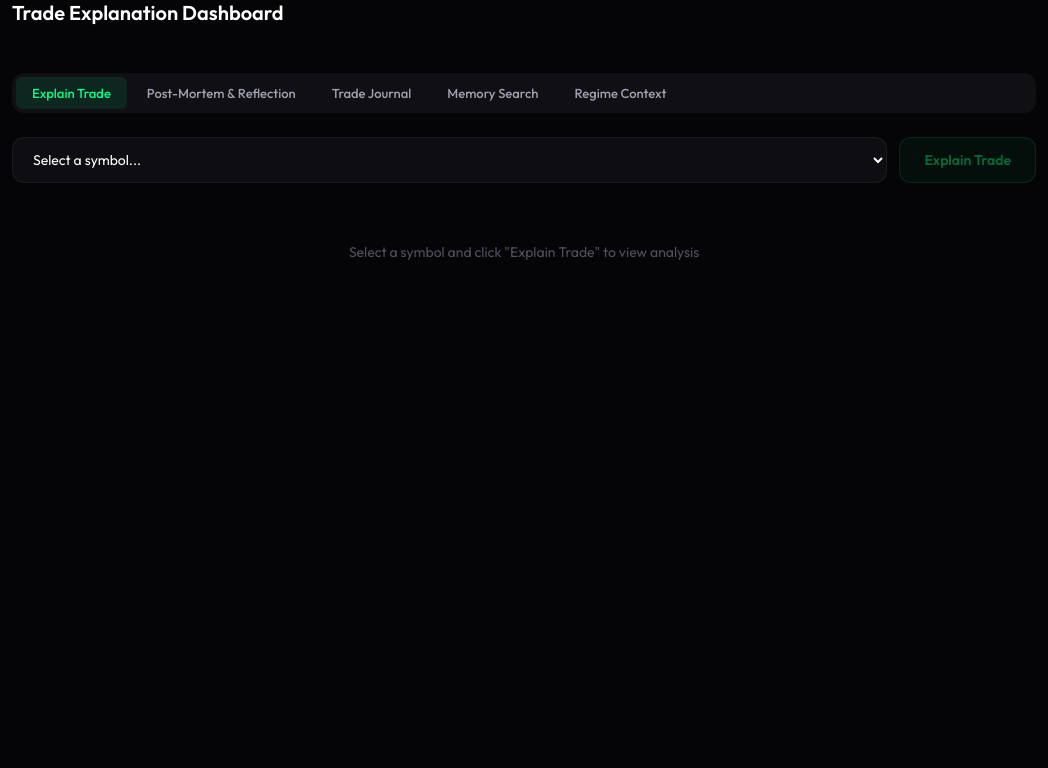
Test case: TradeIntelligence - Scenario 3: Post-Mortem & Reflection Flow › Displays recurring patterns in reflection
Click the button "Post-Mortem & Reflection".
click(221, 93)  # box x1=131 y1=77 x2=312 y2=109
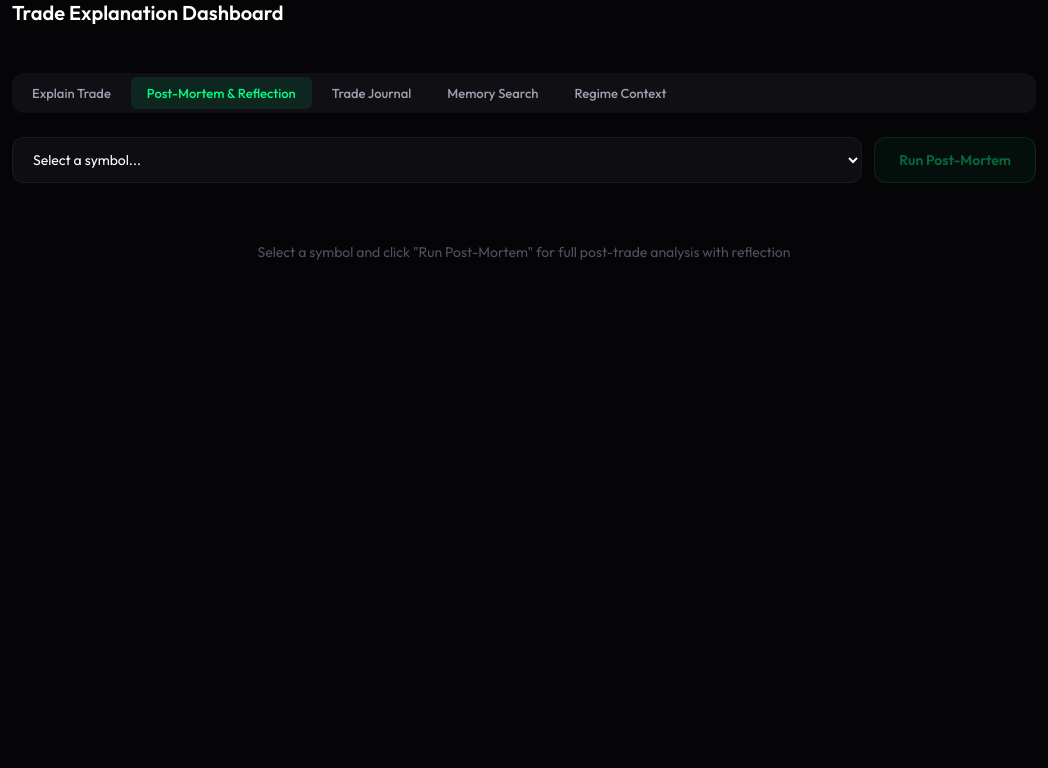
Select "RELIANCE" in the dropdown at point(437, 160), box x1=12 y1=137 x2=862 y2=183
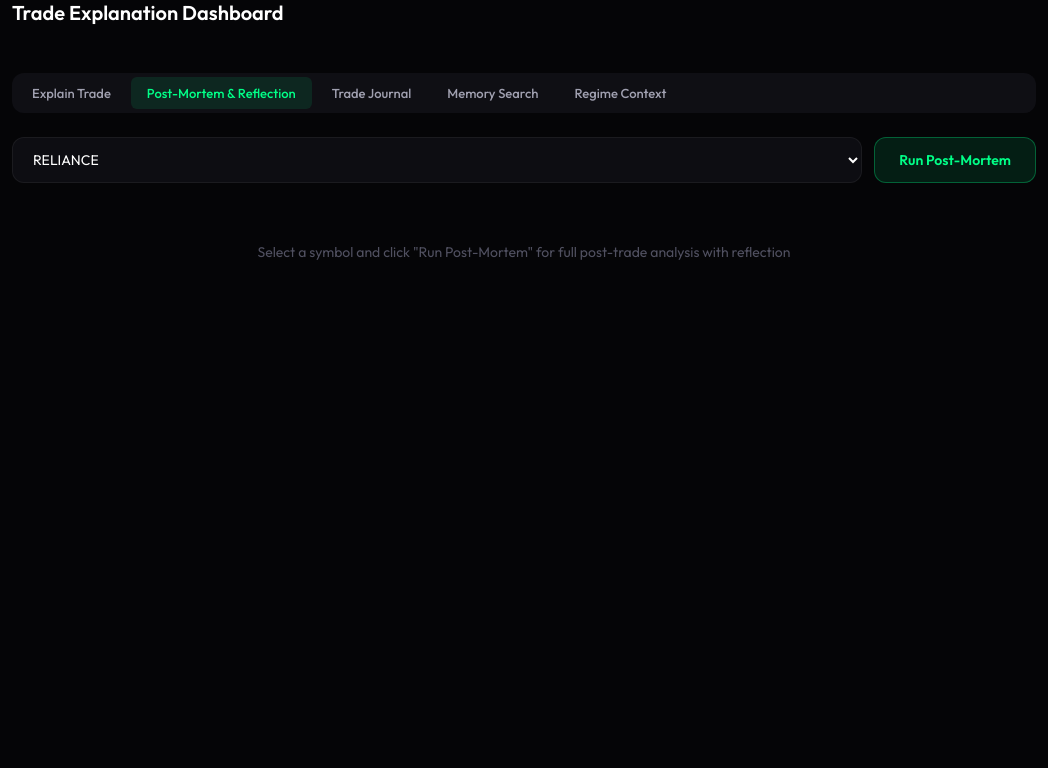
Click the button "Run Post-Mortem".
click(955, 160)  # box x1=874 y1=137 x2=1036 y2=183
(page scrolled)
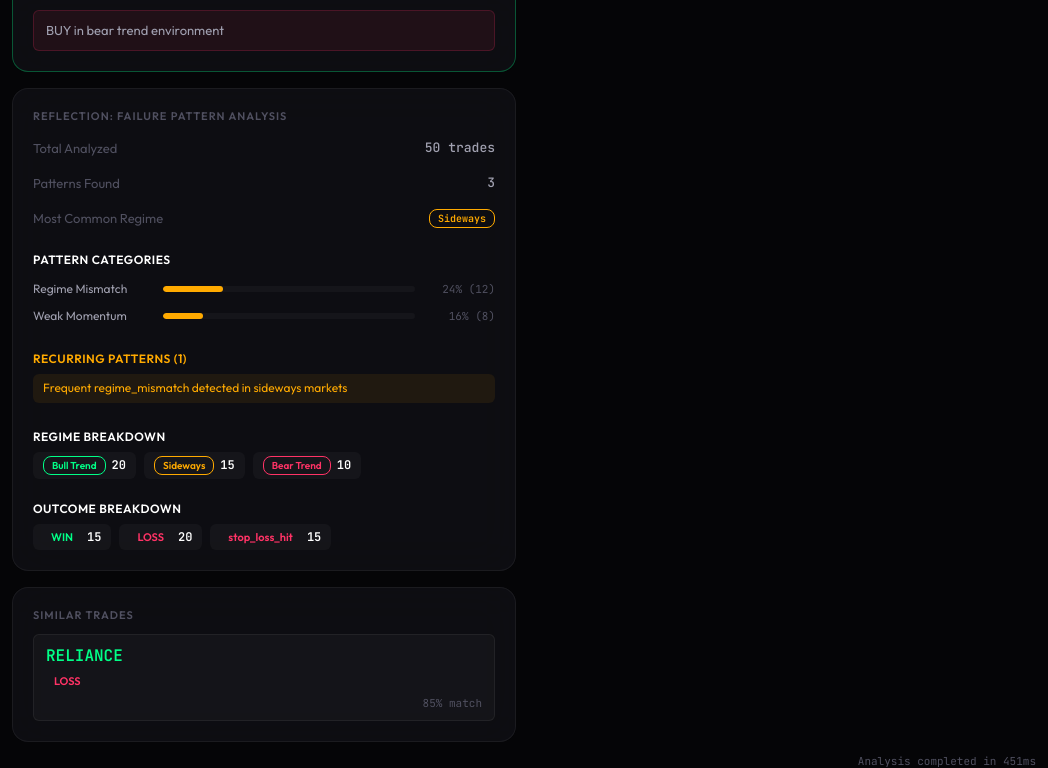
Now the text "Frequent regime_mismatch detected in sideways markets" is shown, box x1=33 y1=374 x2=495 y2=403
